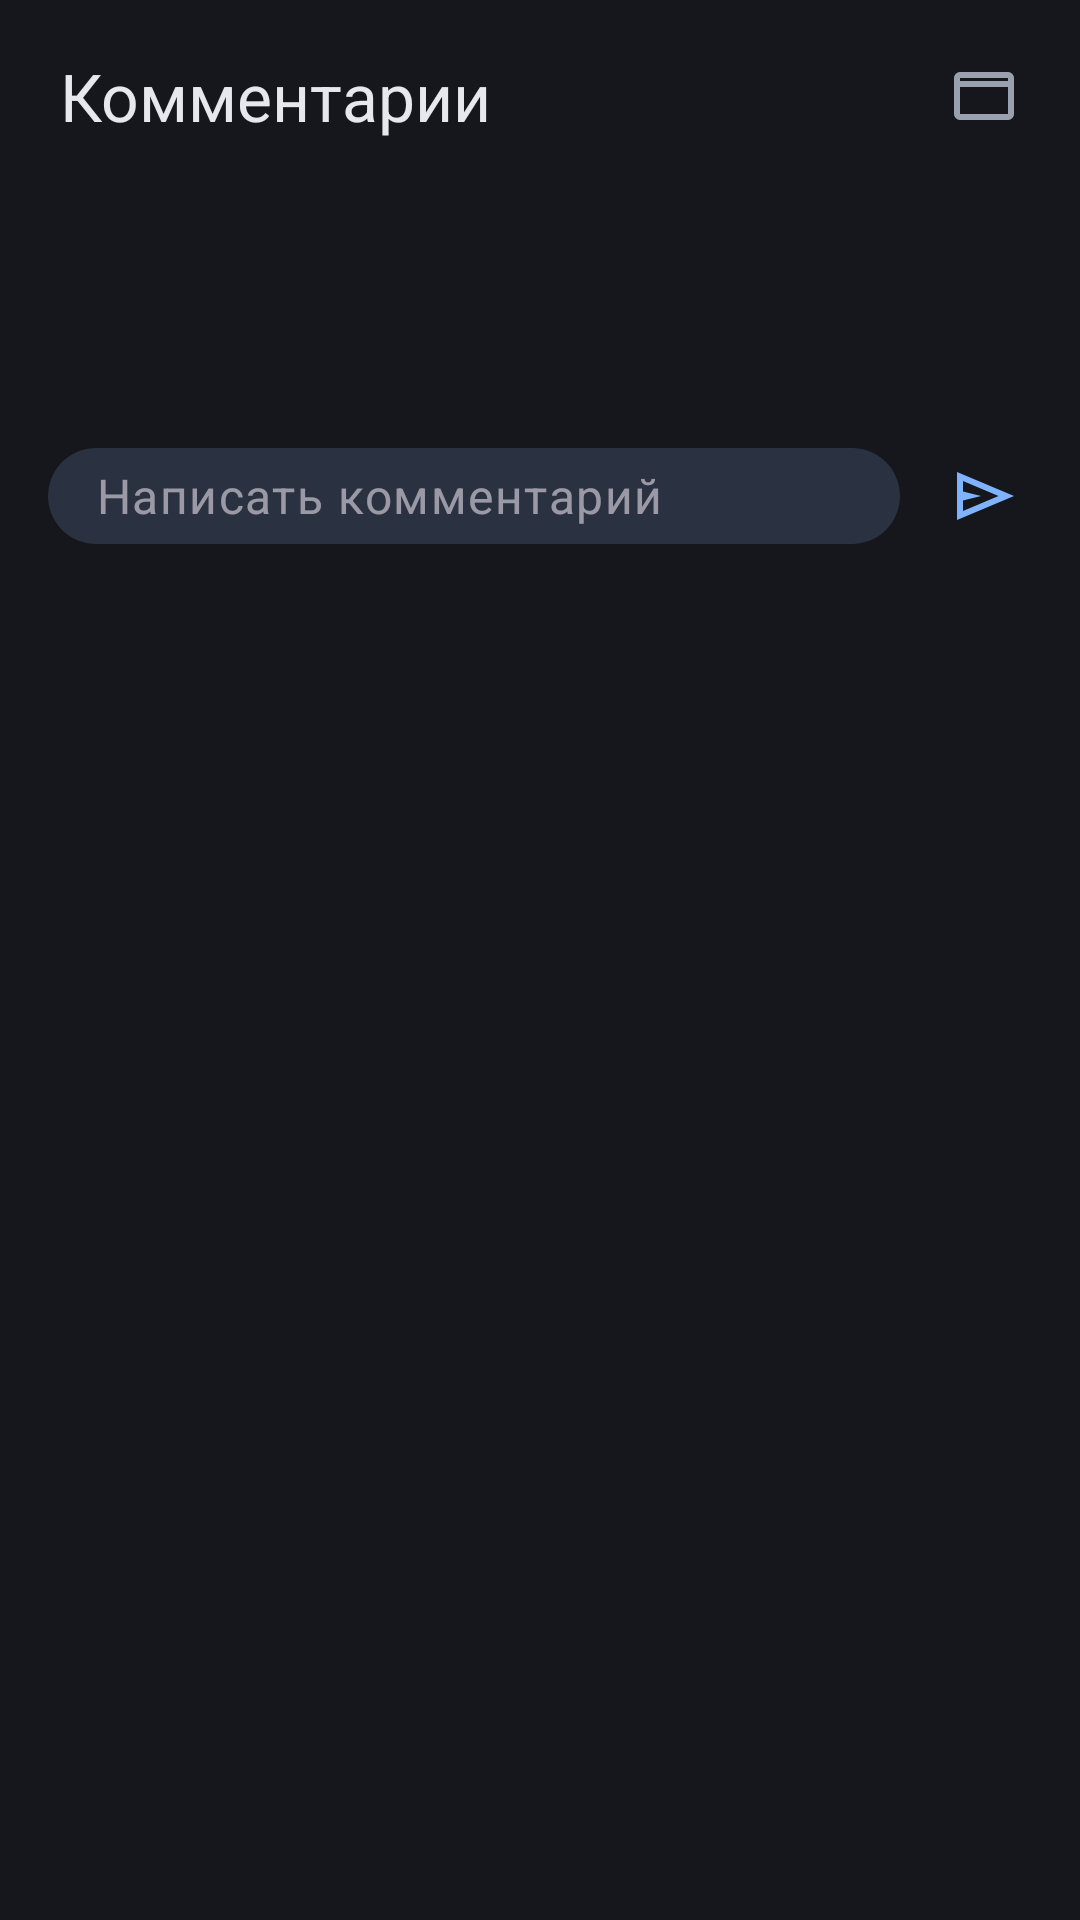

Named icons in this screenshot (1080px x 1920px) and their bounding boxes, Rect(x1, y1, x2, y2):
Открыть на странице VK: Rect(954, 72, 1014, 120)
Отправить комментарий: Rect(957, 472, 1014, 520)
